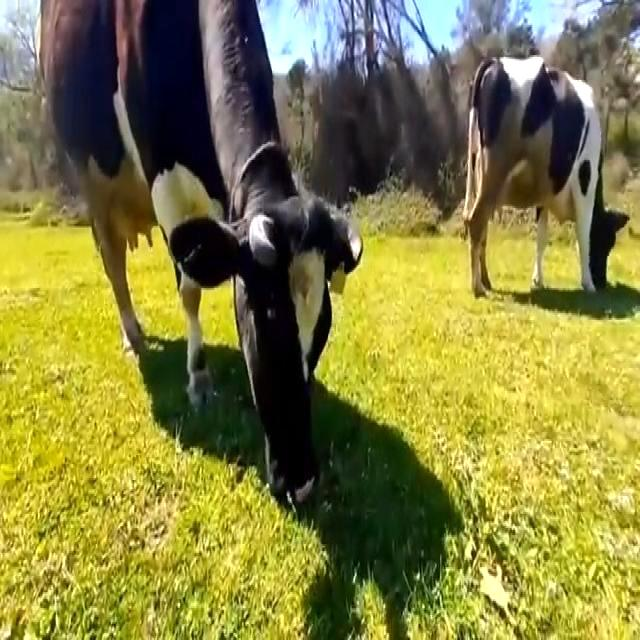COW: (41, 0, 362, 503), (465, 58, 626, 294)
